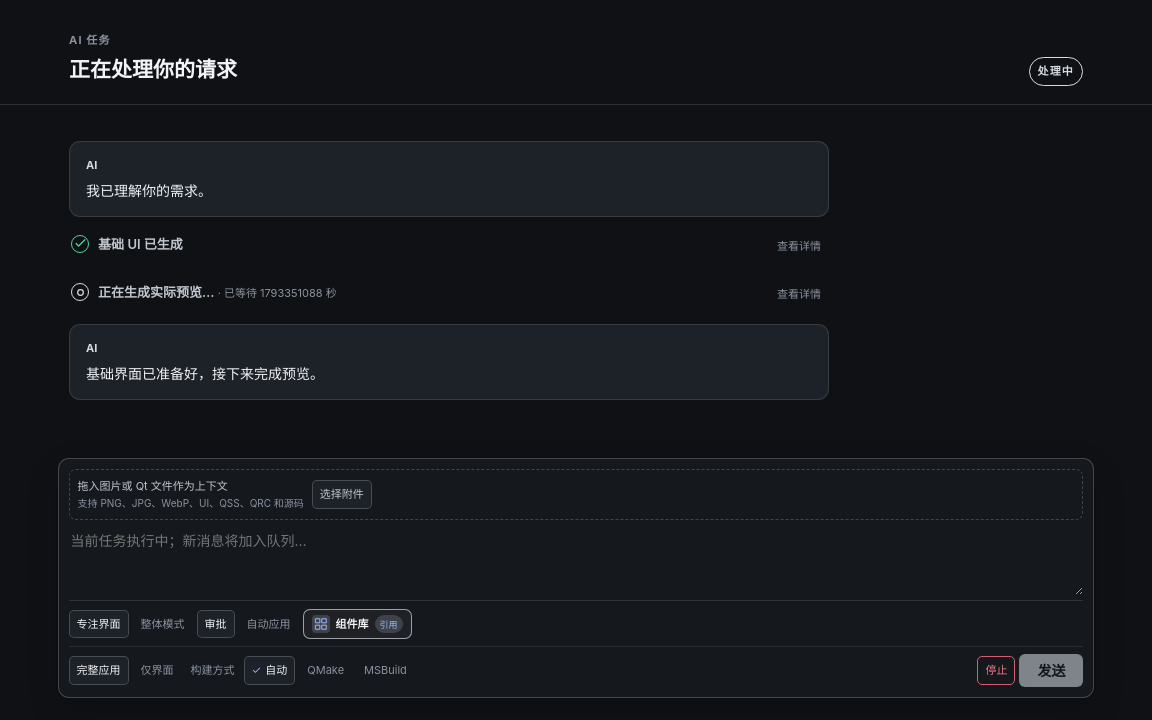
Test: TaskConversationView › renders readable streamed messages and hides technical details by default
Expected: the text "基础 UI 已生成" is shown, [98,236,183,252]
Expected: the text "我已理解你的需求。" is shown, [86,182,212,199]
Click the button with aria-label "查看详情：正在生成实际预览…": (799, 294) [771,283,827,306]
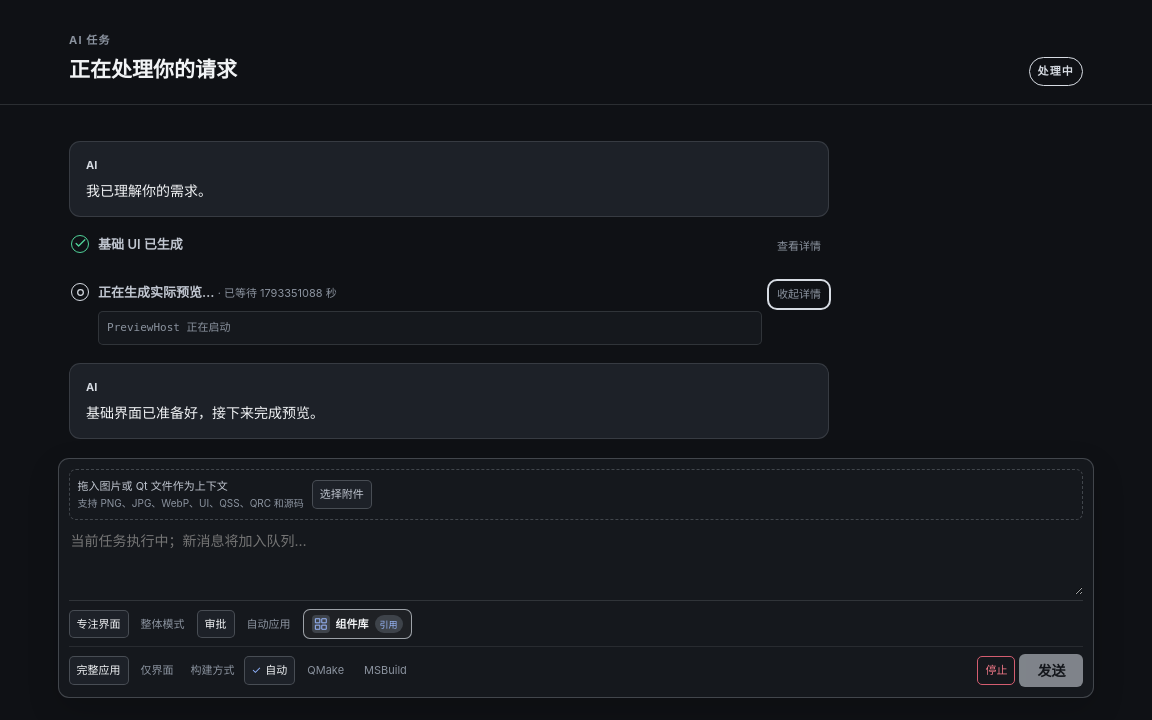
Result: the text "PreviewHost 正在启动" is shown at [98,311,762,345]
